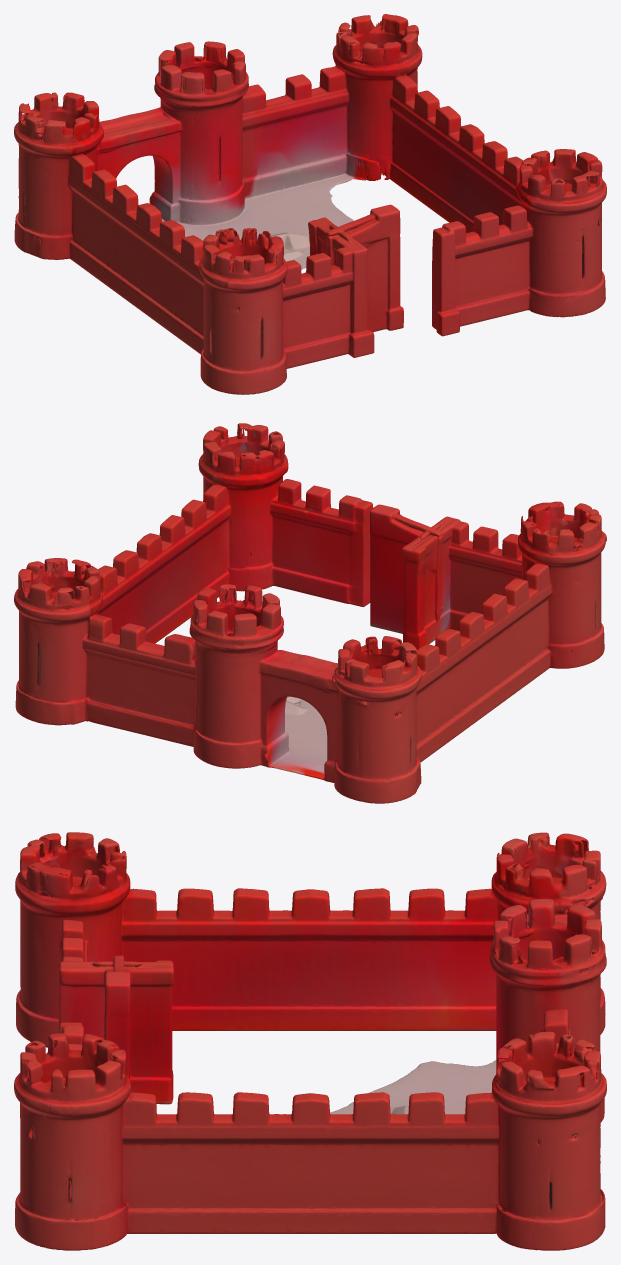
The model's file is red_fort.glb.
The picture shows the model from 3 angles, top to bottom: view 1: azimuth 30°, elevation 25°; view 2: azimuth 150°, elevation 25°; view 3: azimuth 270°, elevation 25°; orthographic projection. The views are drawn at different scales.
Parts seen in each view (by area): view 1: tripo_node_c684f790-e1fe-47c2-855d-7fe65e78d357; view 2: tripo_node_c684f790-e1fe-47c2-855d-7fe65e78d357; view 3: tripo_node_c684f790-e1fe-47c2-855d-7fe65e78d357.
Boxes of the visible parts, x1=… form: tripo_node_c684f790-e1fe-47c2-855d-7fe65e78d357: x1=14, y1=14, x2=606, y2=394; tripo_node_c684f790-e1fe-47c2-855d-7fe65e78d357: x1=14, y1=423, x2=606, y2=803; tripo_node_c684f790-e1fe-47c2-855d-7fe65e78d357: x1=14, y1=832, x2=606, y2=1250.
Size of the model in its own units: 0.9958 by 0.4039 by 1.
1 material, 1 textured.
